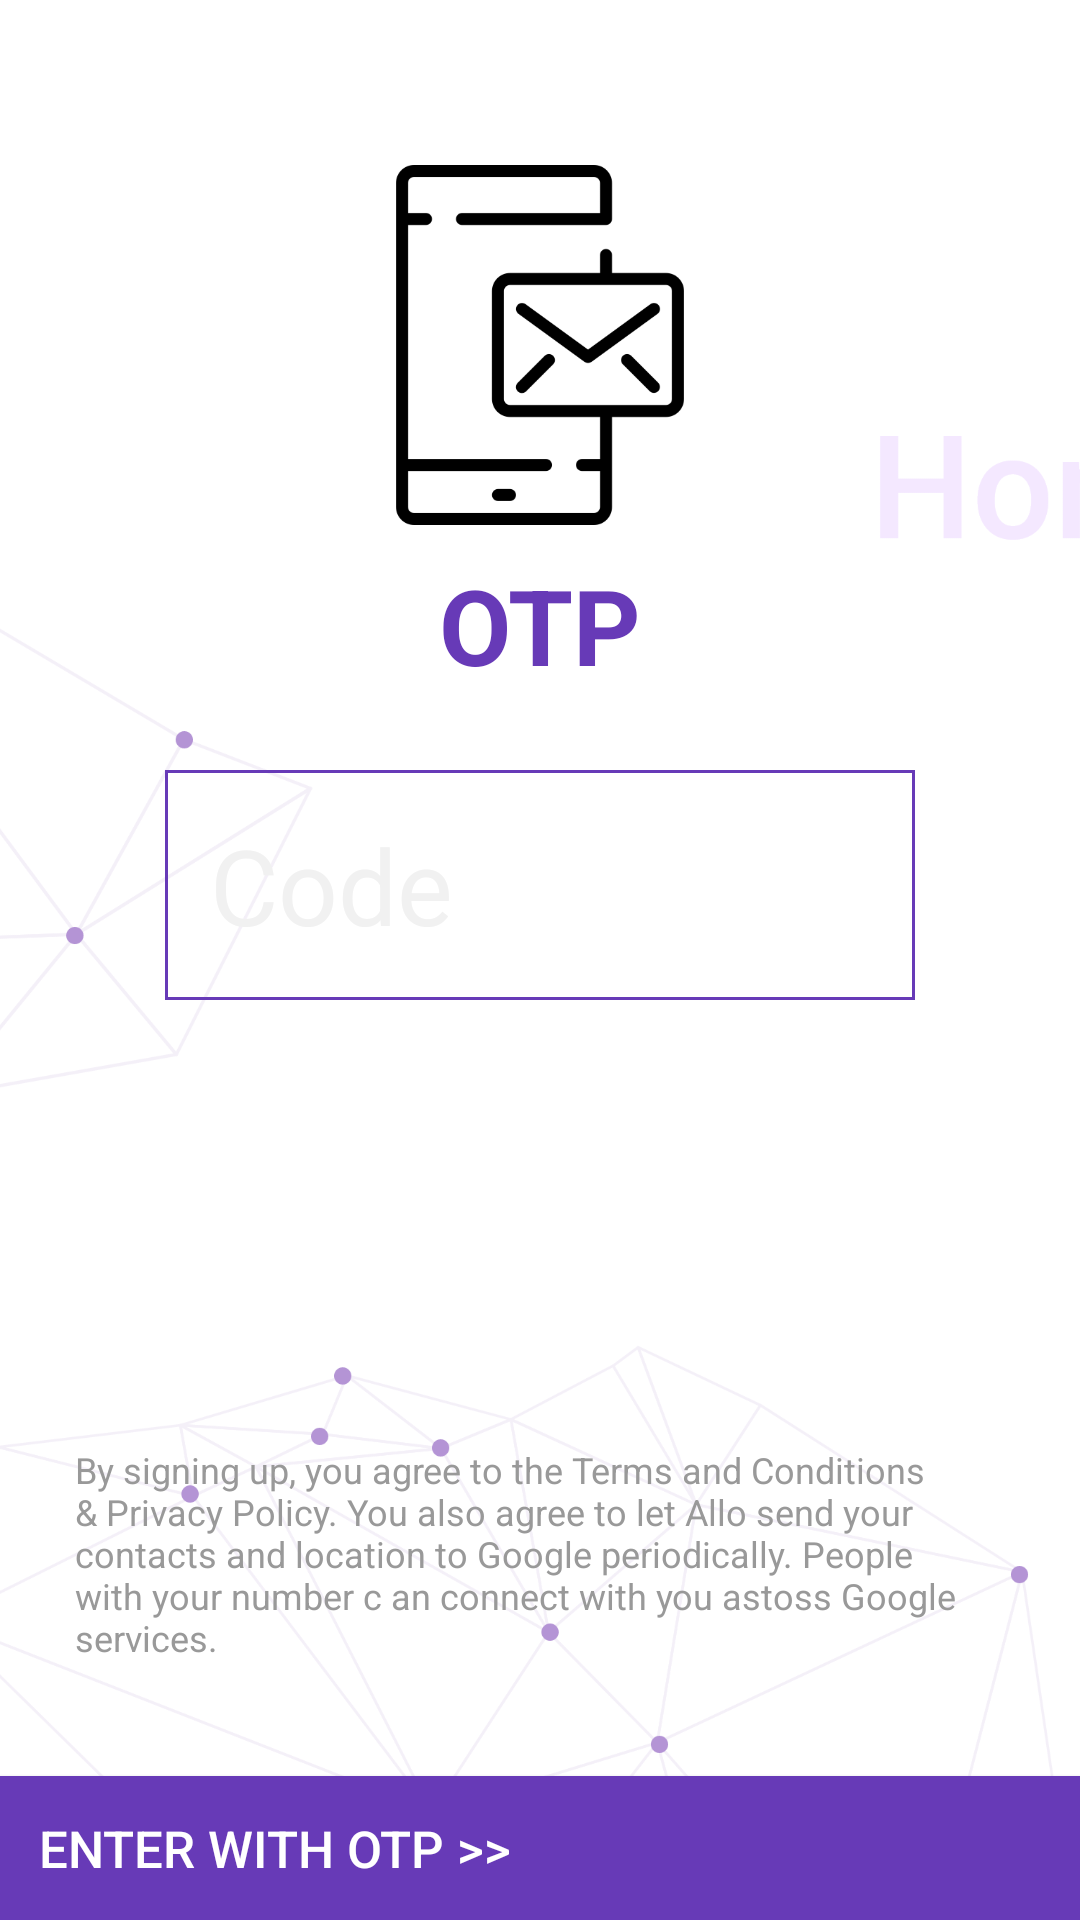

Icons on this 1080px x 1920px Android screen, each with its box as (x1, y1, x2, y2):
phonesms: (396, 165, 684, 525)
